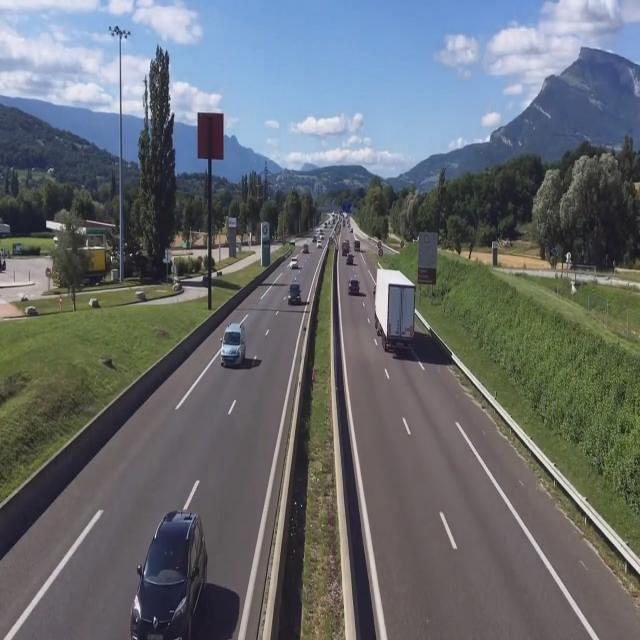car: (130, 511, 208, 638), (219, 323, 246, 370), (287, 280, 303, 306), (349, 276, 361, 297)
truck: (372, 267, 416, 356)
